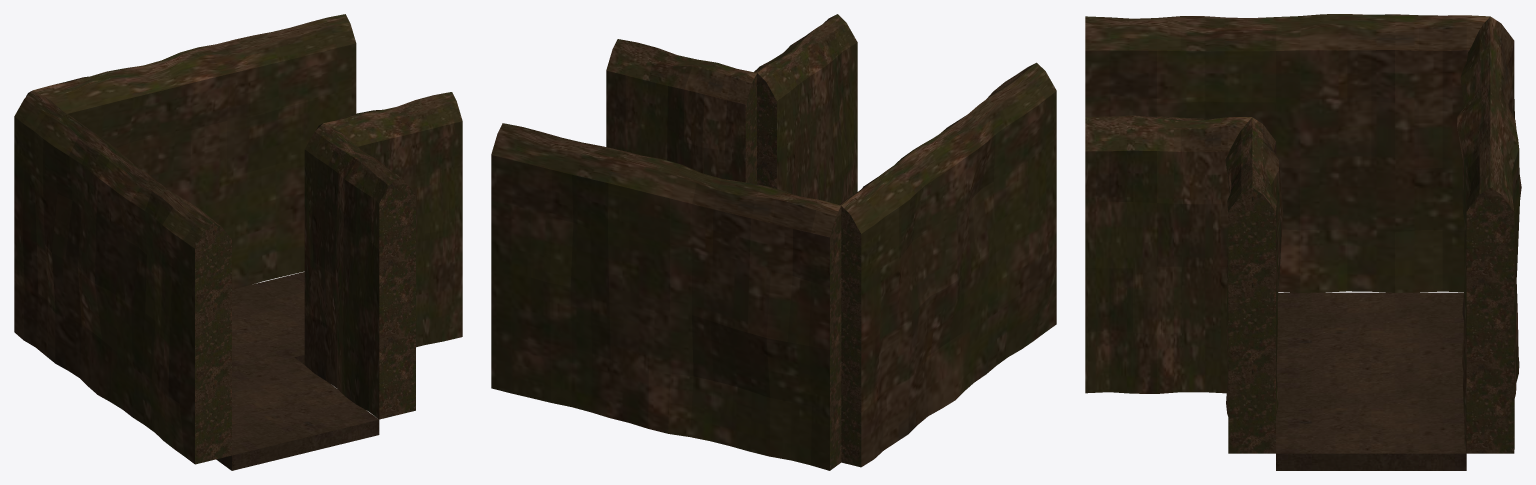
Rendered from cave_corner_01_dirt.glb.
3 renders of one model, left to right at view 1: azimuth 30°, elevation 25°; view 2: azimuth 150°, elevation 25°; view 3: azimuth 270°, elevation 25°, orthographic. The views are drawn at different scales.
Visible parts, largest first — view 1: cave_corner_01_dirt; view 2: cave_corner_01_dirt; view 3: cave_corner_01_dirt.
Part boxes in pixels (x1=…): cave_corner_01_dirt: x1=14, y1=14, x2=462, y2=470; cave_corner_01_dirt: x1=491, y1=14, x2=1056, y2=470; cave_corner_01_dirt: x1=1085, y1=14, x2=1521, y2=470.
Size of the model in its own units: 4.57 by 3.31 by 4.58.
Materials: 2 (2 with a texture image).
